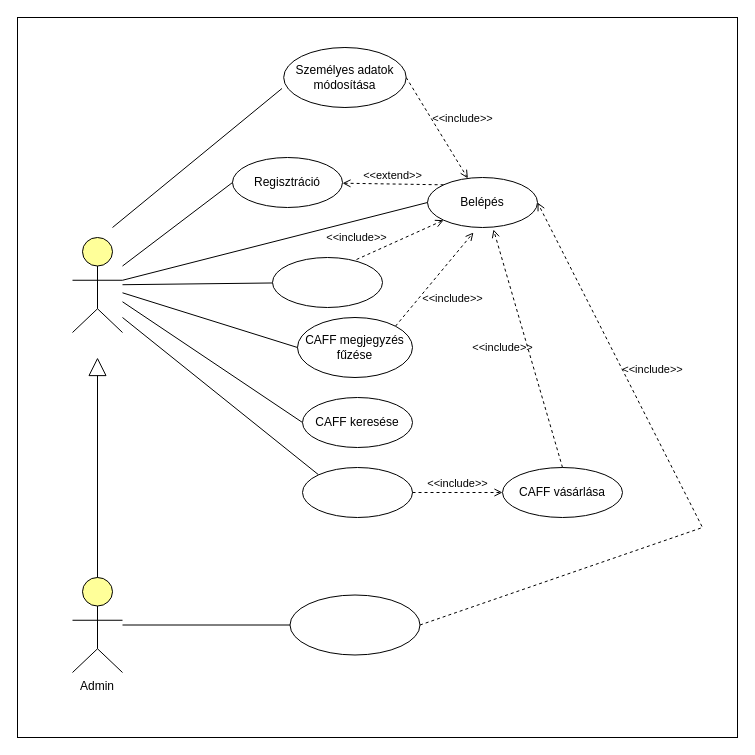
Some shapes in this 755 by 755 pixel diagram are drawn without their labels. The shapes that lost their labels are listed below. From the top down, each one's centre as x and y in pixels, then its label:
At (97,284): "Felhasználó".
At (327,282): "CAFF feltöltése".
At (357,492): "CAFF letöltése".
At (354,624): "Adat törlése, módosítása".
